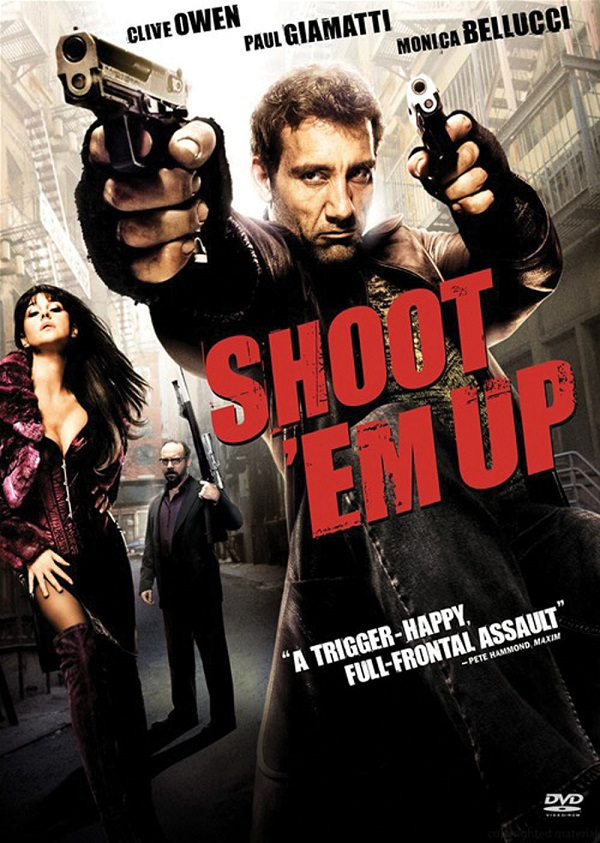gun: (52, 24, 192, 174), (172, 377, 235, 550), (401, 71, 464, 184)
